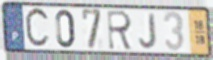0: (54, 8, 76, 50)
3: (163, 10, 187, 54)
7: (80, 8, 104, 52)
C: (24, 6, 52, 52)
J: (138, 12, 158, 50)
R: (106, 9, 134, 52)
